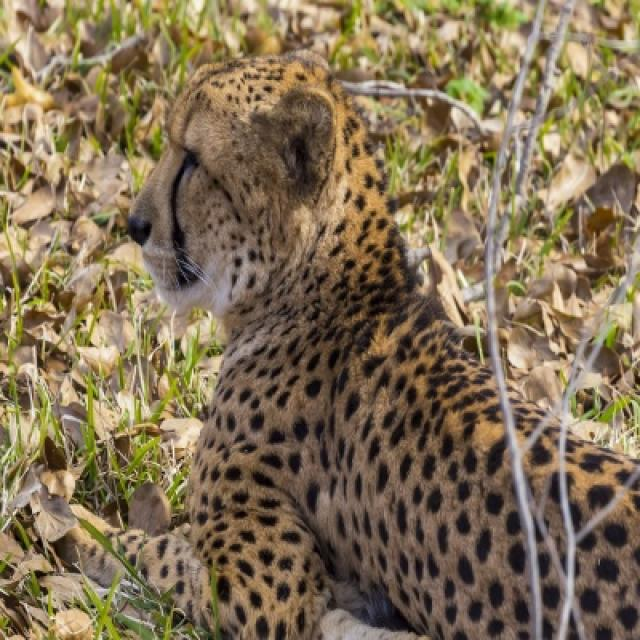Cheetah: (126, 53, 638, 638)
